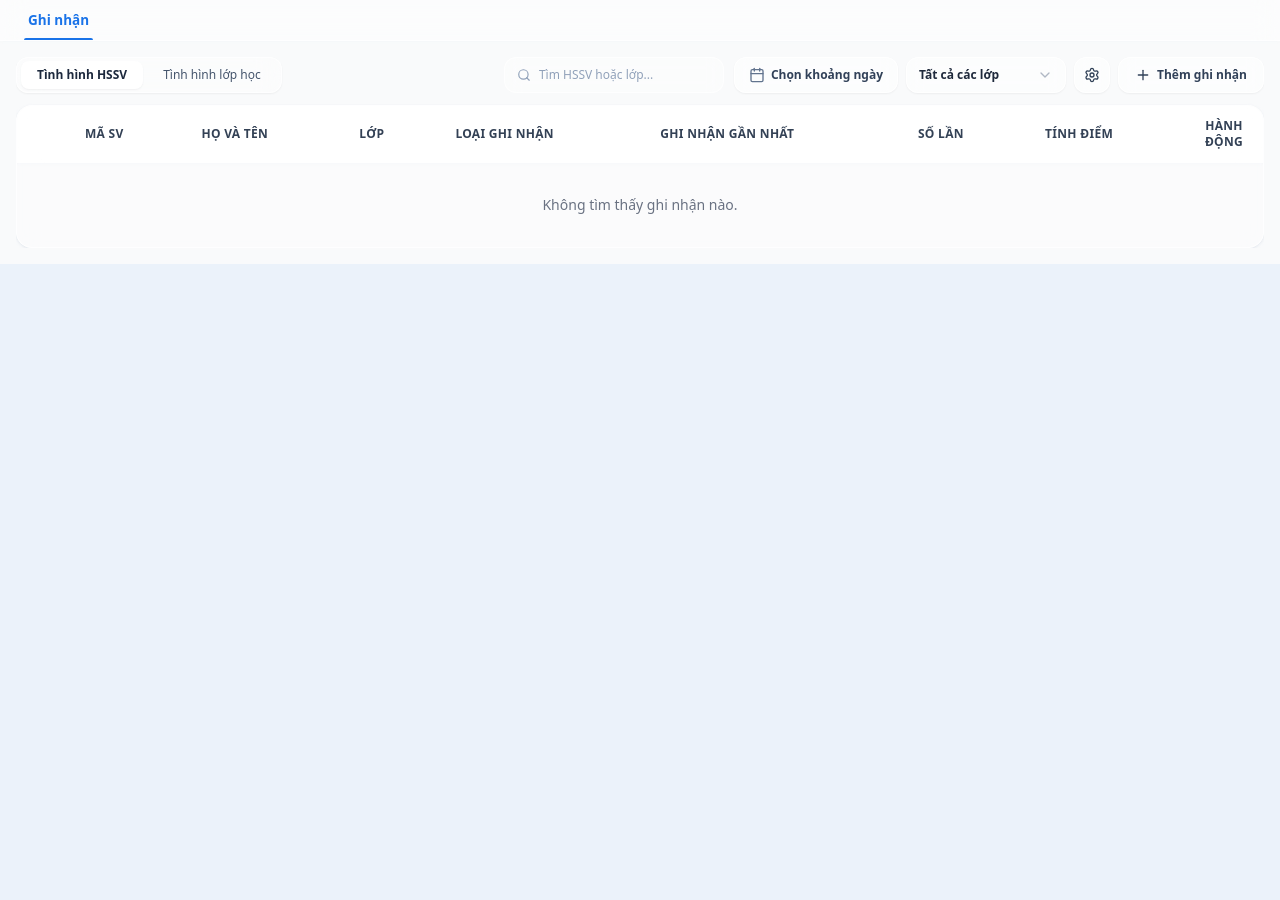
Test case: StudentRecordPage Infinite Scroll › renders the trash dialog as responsive glass content with both tabs and states
This screenshot has width=1280, height=900.
Click the button titled "Cấu hình tiêu chí vắng mặt". click: (1092, 75)
box: [1074,57,1110,93]
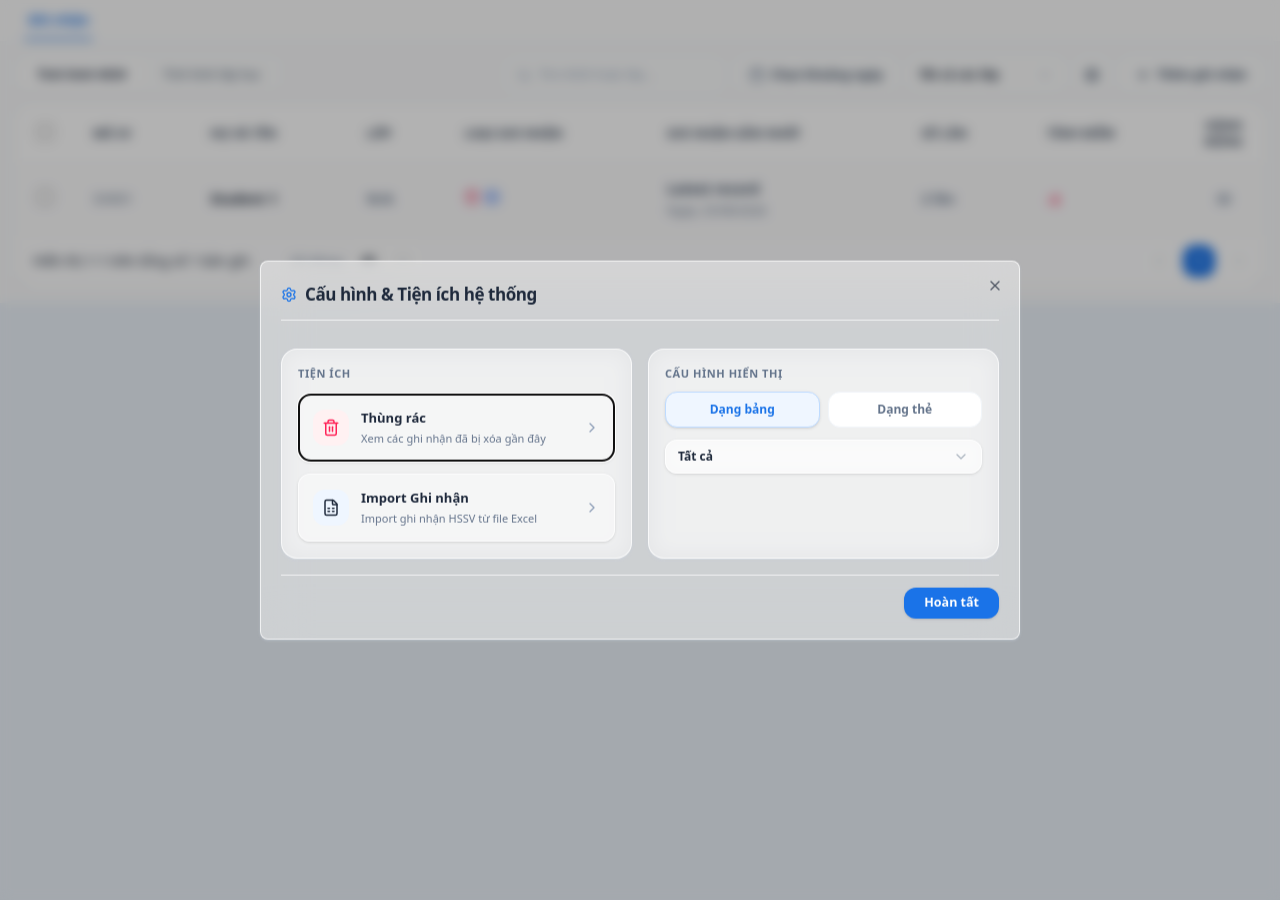
Click the text "Thùng rác". click: (393, 418)
box: [361,409,426,427]
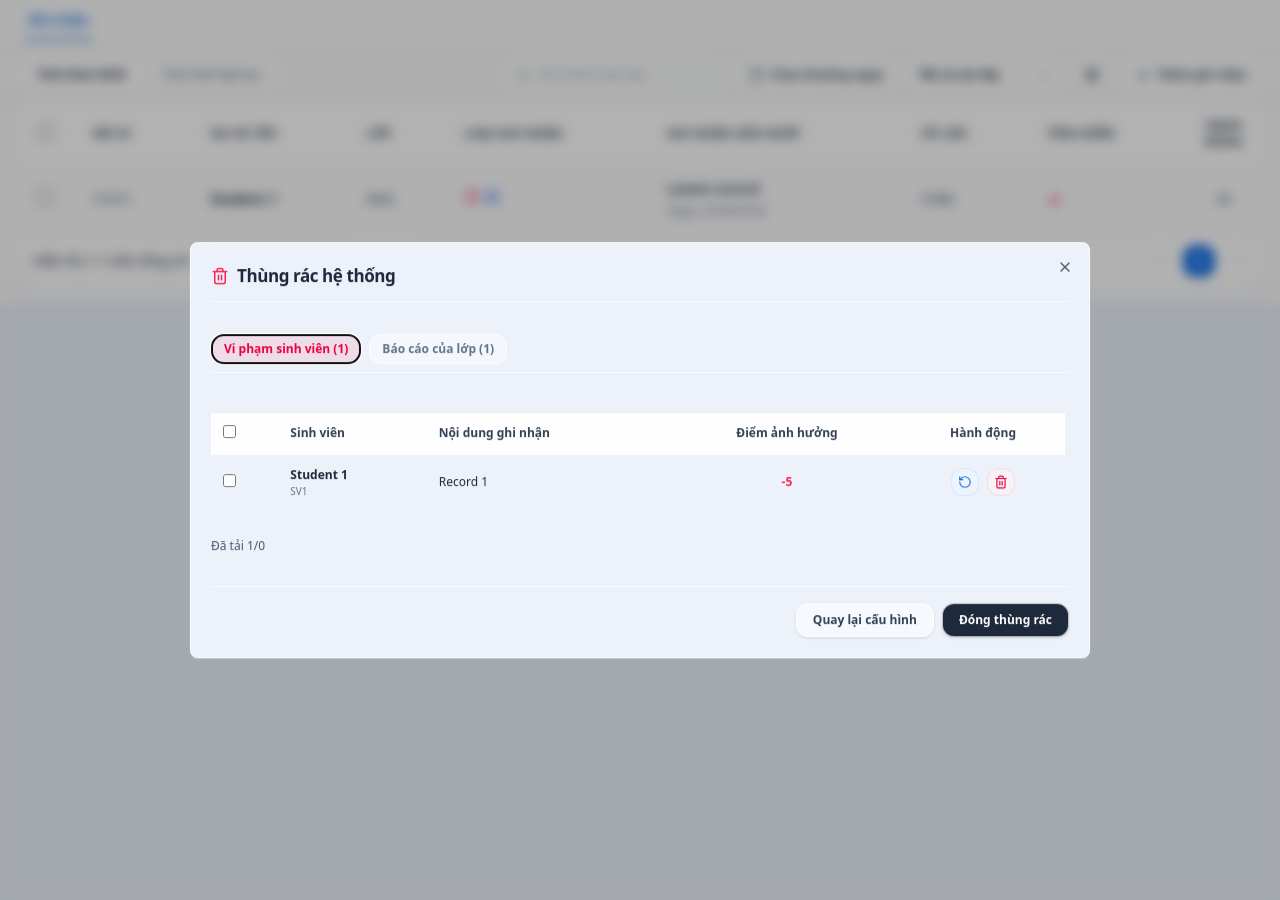
Click the tab "Báo cáo của lớp (1)". click: (438, 349)
box: [369,334,507,364]
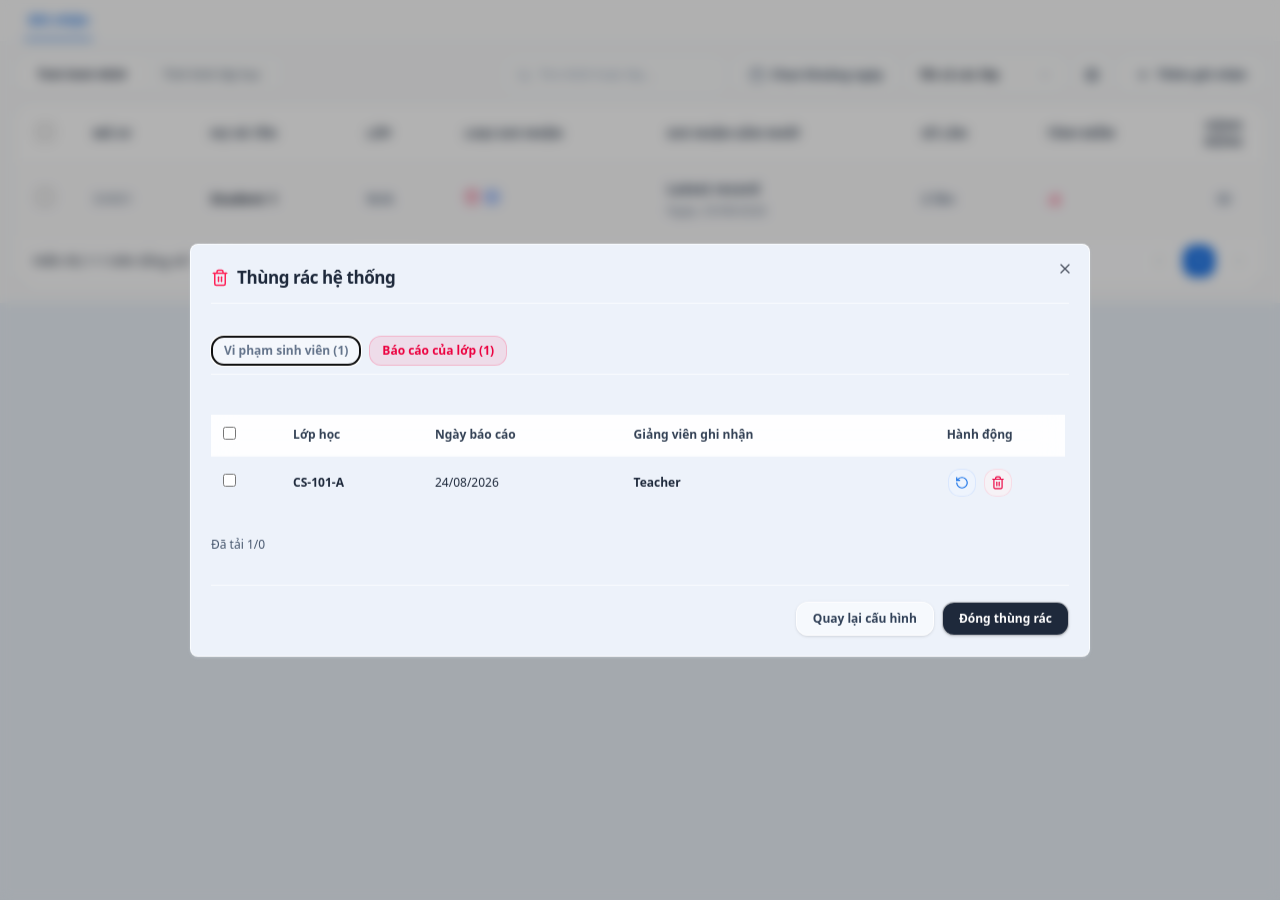
Now the text "CS-101-A" is shown, box [281,456,423,508]
